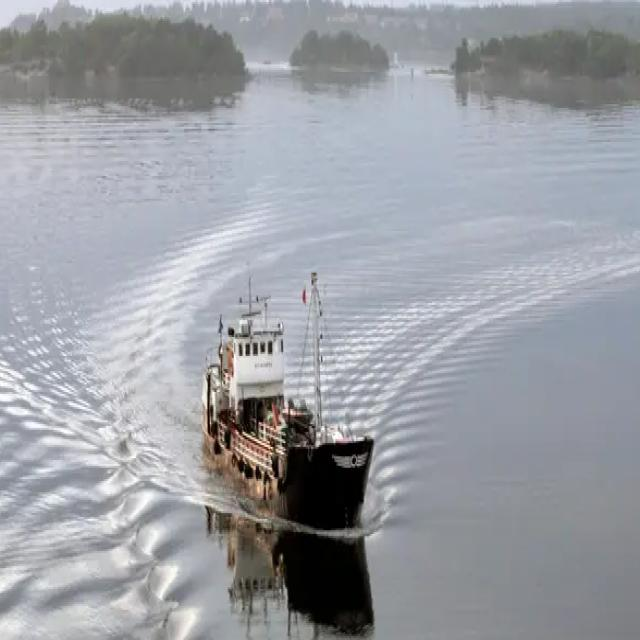fishing boat: (198, 268, 373, 515)
